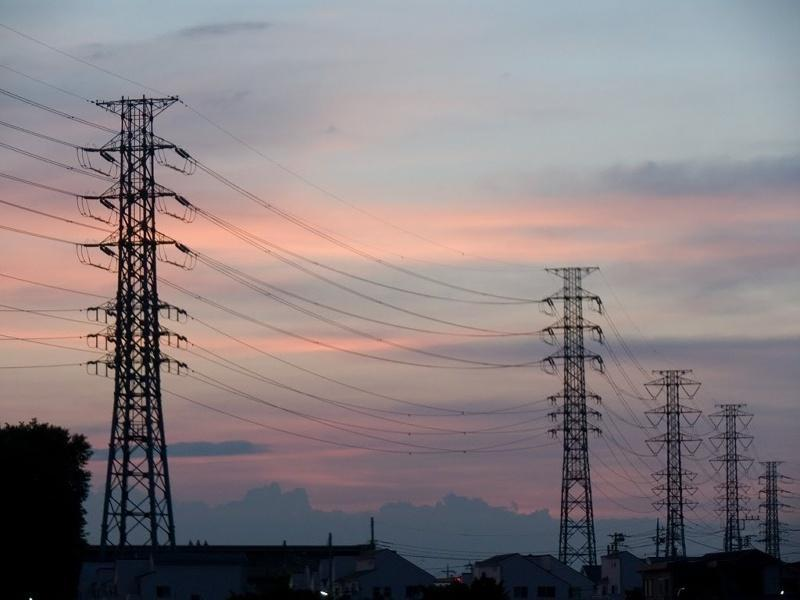power_tower: (75, 92, 198, 545), (536, 262, 606, 552), (638, 369, 707, 556), (706, 401, 755, 558), (754, 460, 793, 552)
